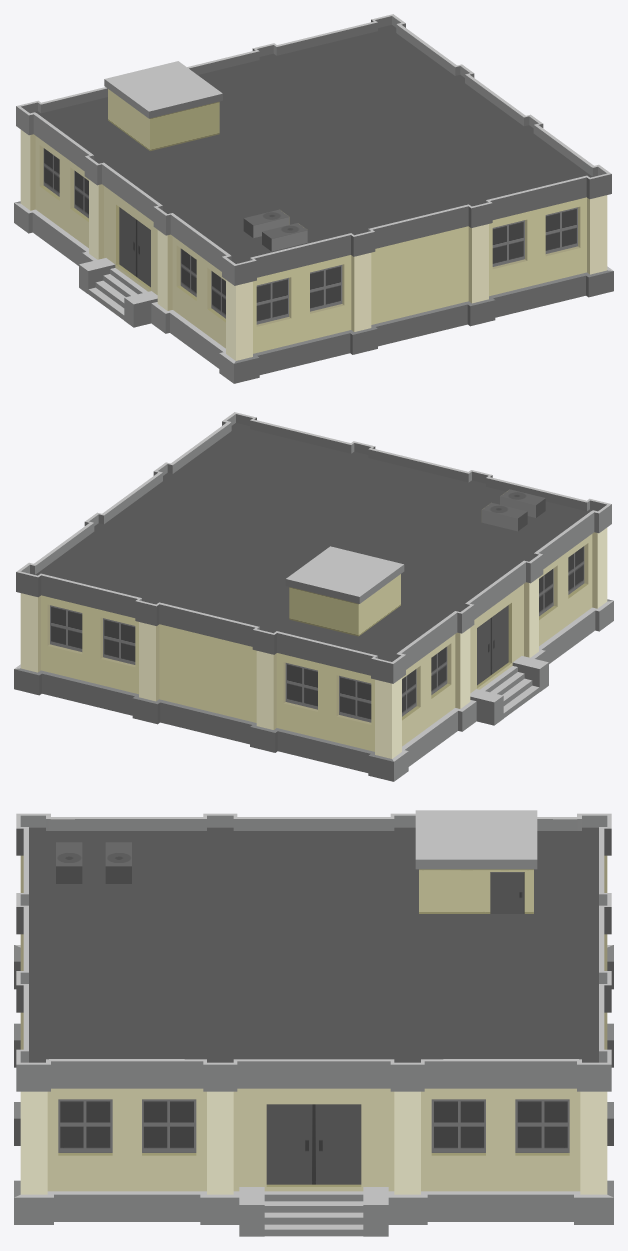
File: factory_big_2.glb
The picture shows the model from 3 angles, top to bottom: view 1: azimuth 30°, elevation 25°; view 2: azimuth 150°, elevation 25°; view 3: azimuth 270°, elevation 25°; orthographic projection. The views are drawn at different scales.
Visible parts, largest first — view 1: factory_large_single_mesh; view 2: factory_large_single_mesh; view 3: factory_large_single_mesh.
Part boxes in pixels (x1=…): factory_large_single_mesh: x1=14, y1=14, x2=613, y2=383; factory_large_single_mesh: x1=14, y1=412, x2=613, y2=781; factory_large_single_mesh: x1=14, y1=810, x2=613, y2=1236.
Size of the model in its own units: 0.2617 by 0.0898 by 0.2402.
Materials: 1 (1 with a texture image).
